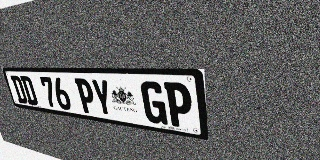6: (51, 77, 72, 111)
7: (39, 77, 59, 109)
D: (20, 76, 39, 106), (10, 75, 28, 104)
G: (140, 81, 168, 125)
P: (164, 82, 193, 129), (74, 78, 97, 114)
Y: (90, 79, 114, 117)
